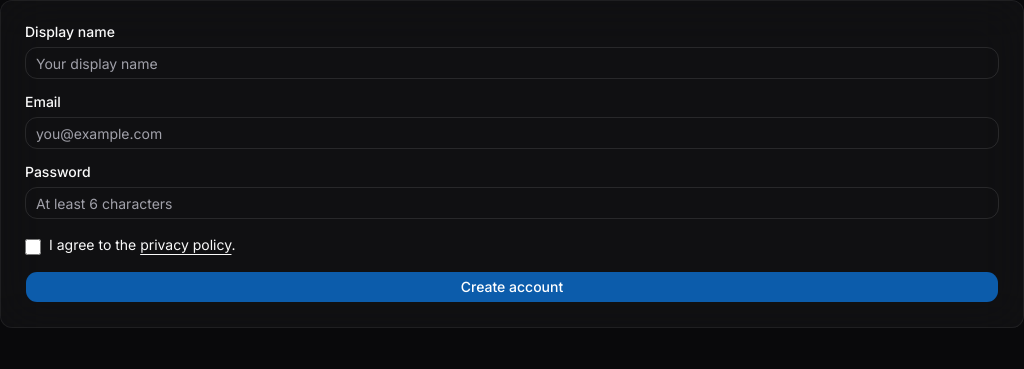
Test: RegisterForm › shows inline validation when password is too short
Type "Tina" into the field labelled "Display name" at (512, 63), box 25,47 -> 999,79
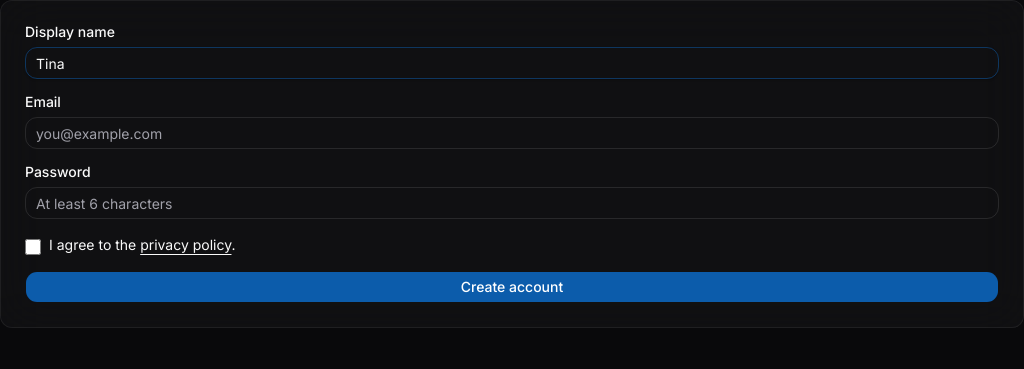
Type "tina@example.com" into the field labelled "Email" at (512, 133), box 25,117 -> 999,149
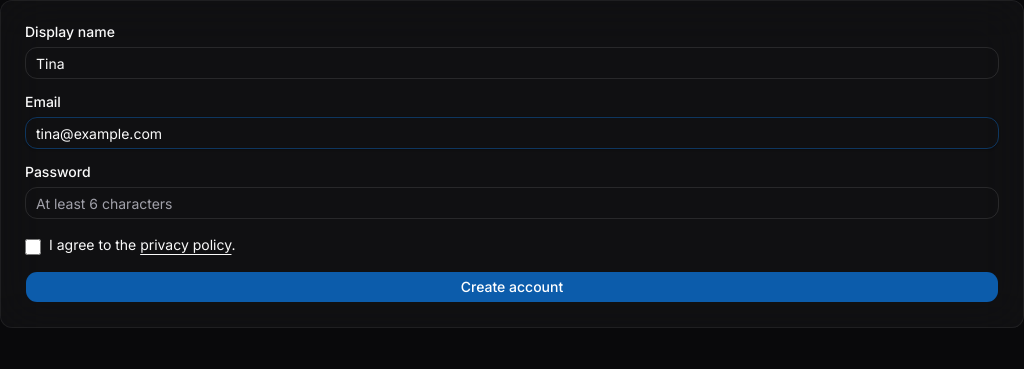
Type "12345" into the password field labelled "Password" at (512, 203), box 25,187 -> 999,219
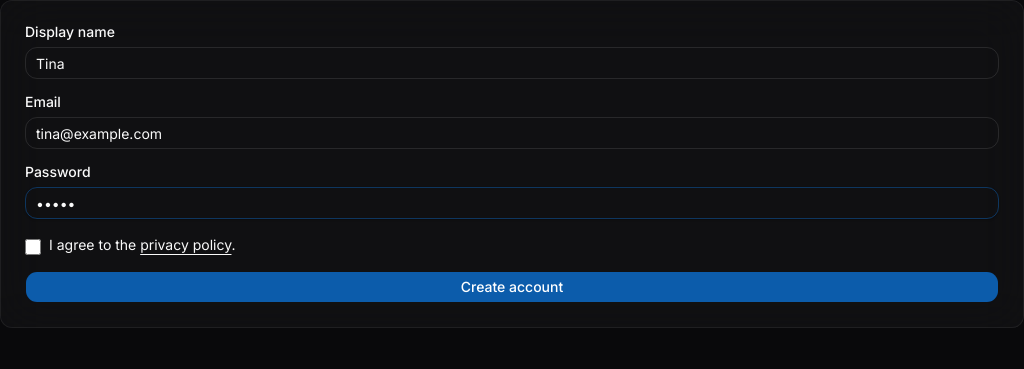
Click the checkbox at (33, 247), box 25,239 -> 41,255
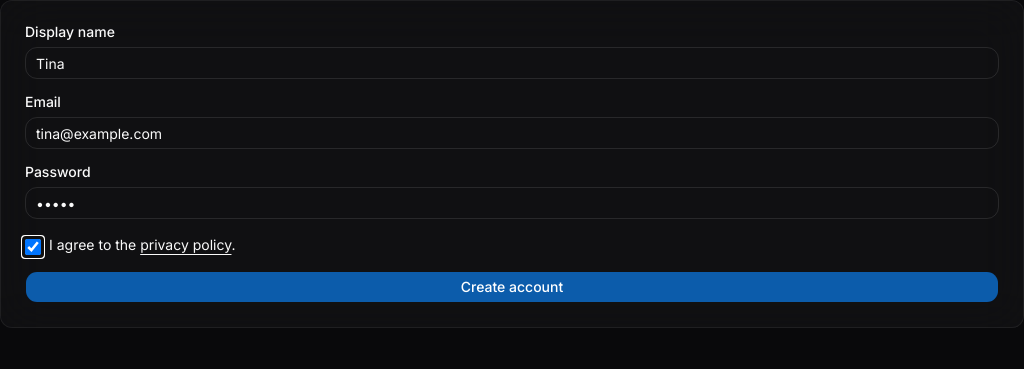
Click the button "Create account" at (512, 287), box 25,271 -> 999,303
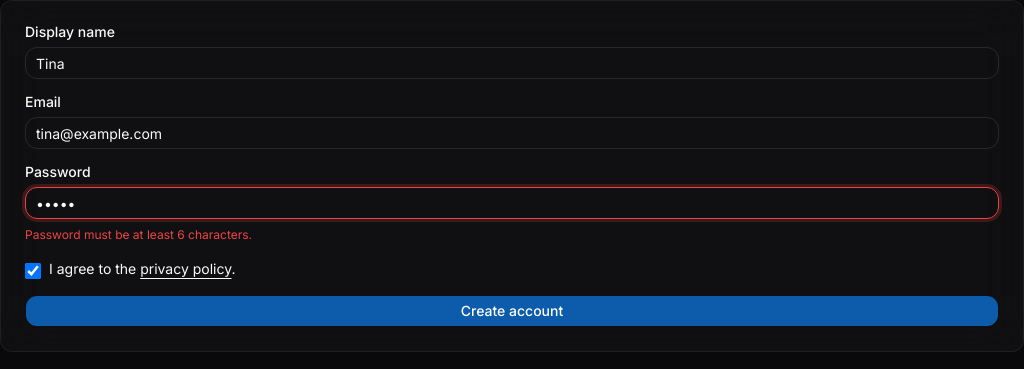
Result: the text "Password must be at least 6 characters." is shown at 25,227 -> 252,242
